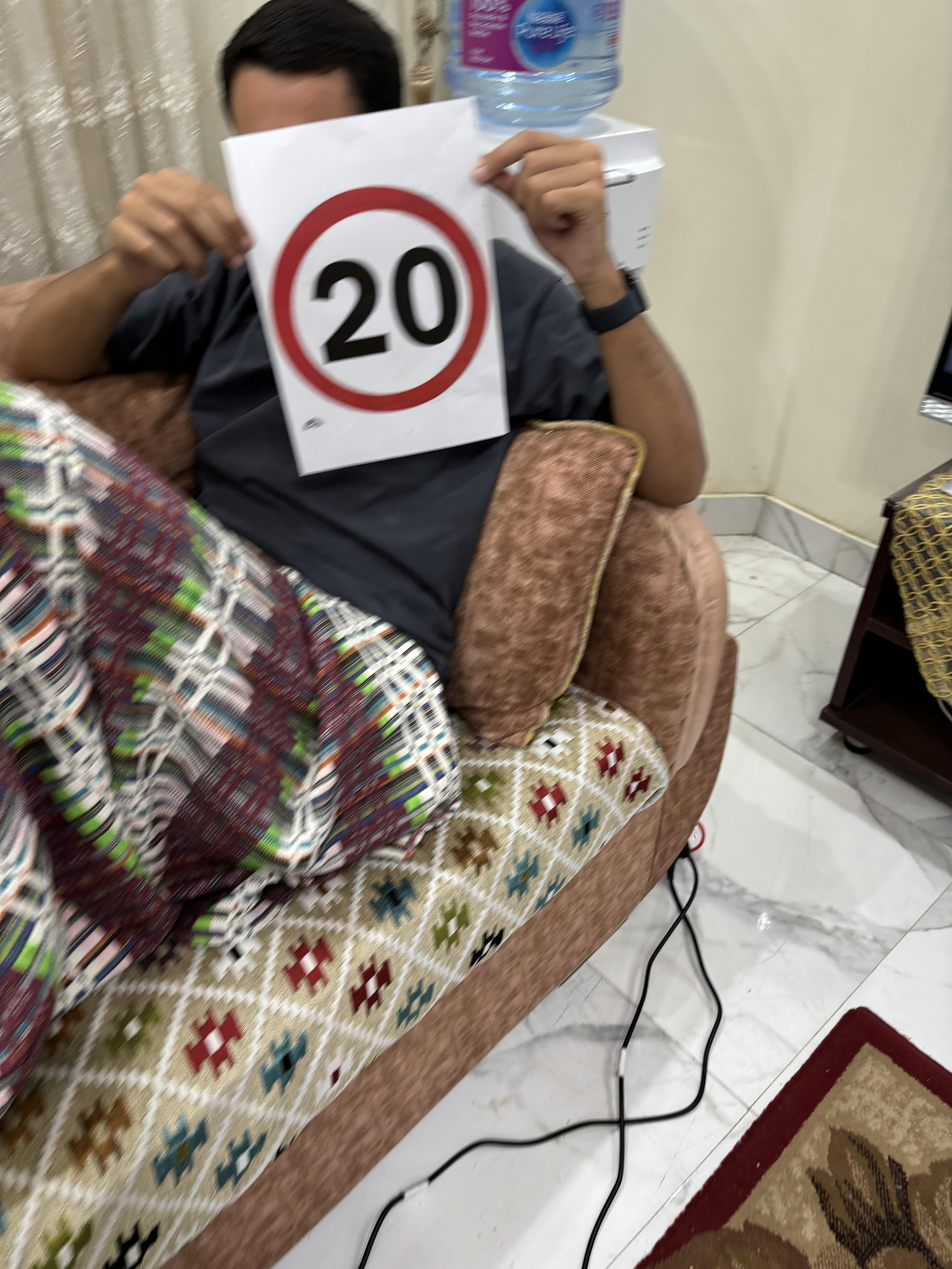20-Speed: (267, 176, 498, 422)
